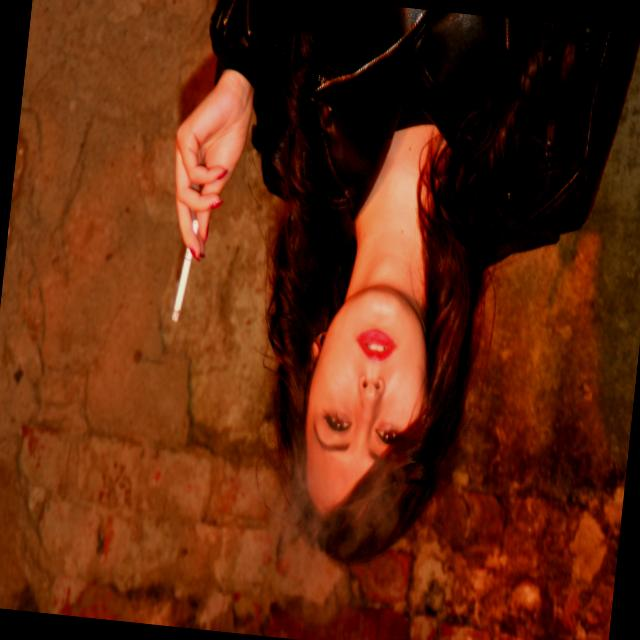smoke: (169, 214, 206, 324)
